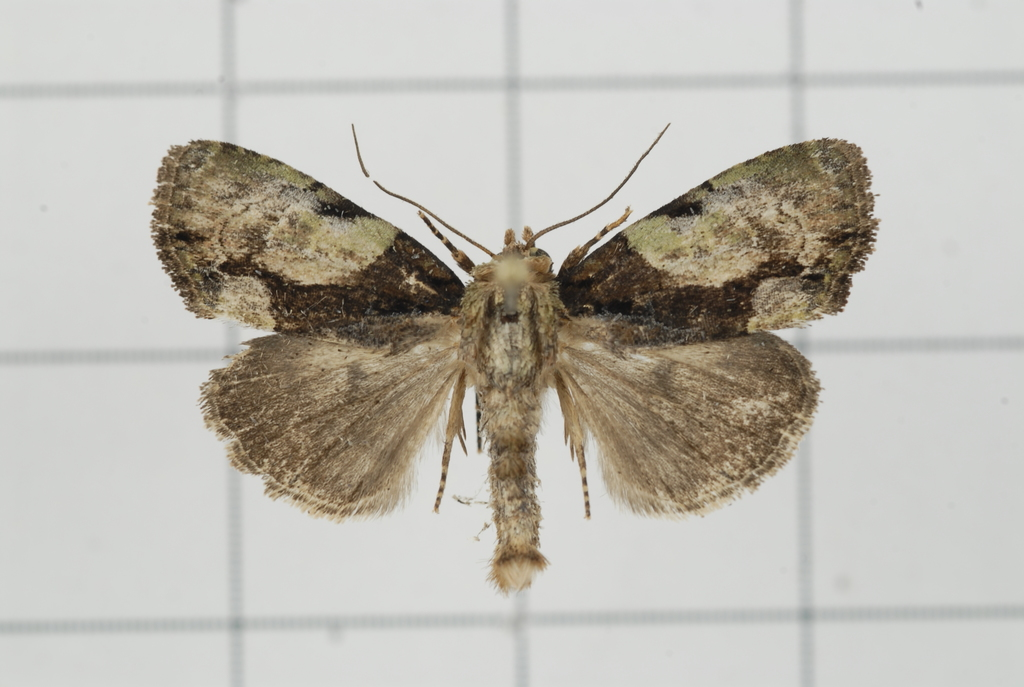Butterfly: (136, 122, 902, 596)
